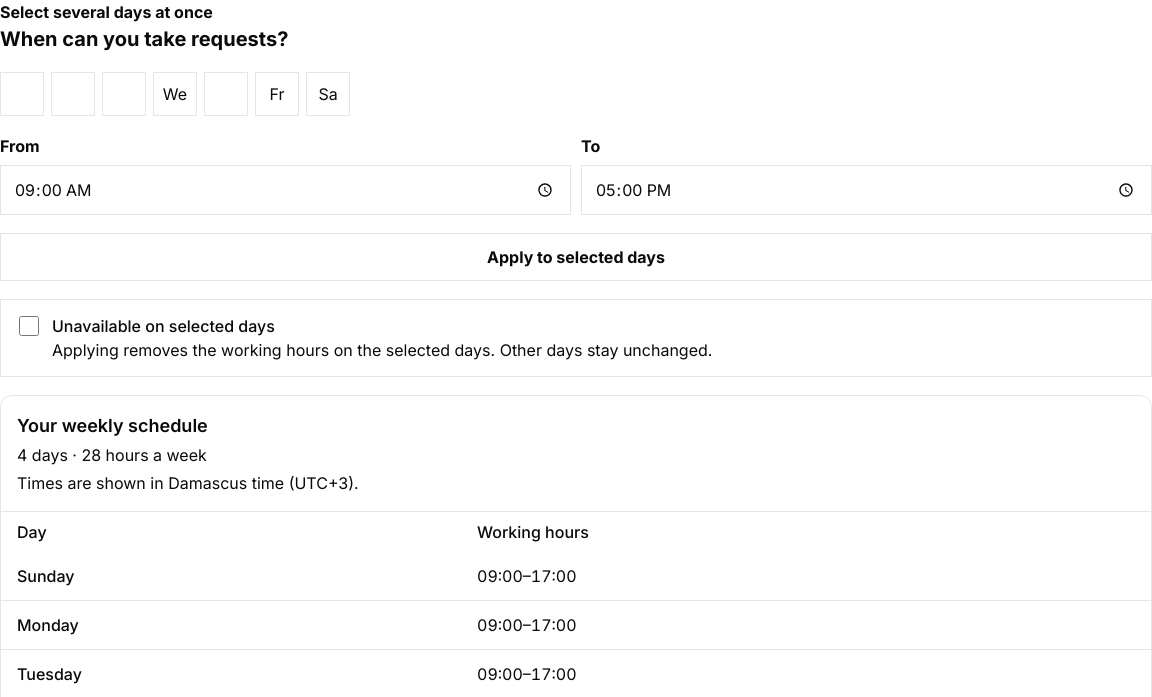
Test: G-04 — applying must not quietly discard what it was not asked about › lets the provider back out, changing nothing
Click the button with test id "apply-to-selected": (576, 257) [0,233,1151,281]
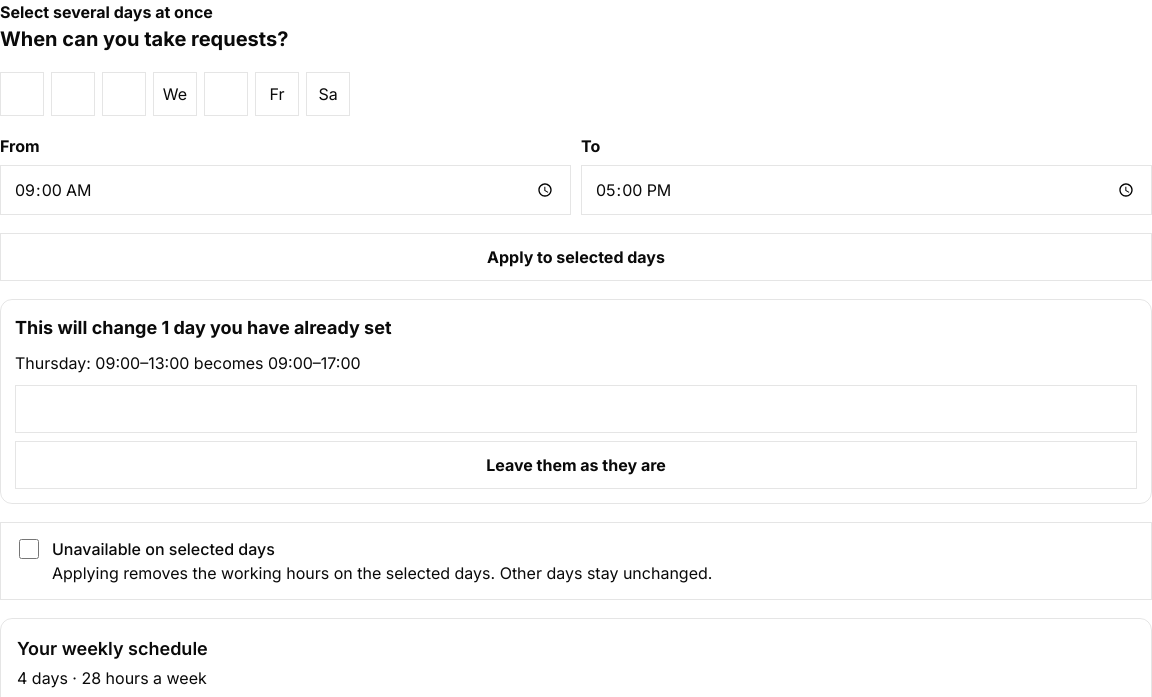
Click the button with test id "apply-discards-cancel": (576, 465) [15,441,1137,489]
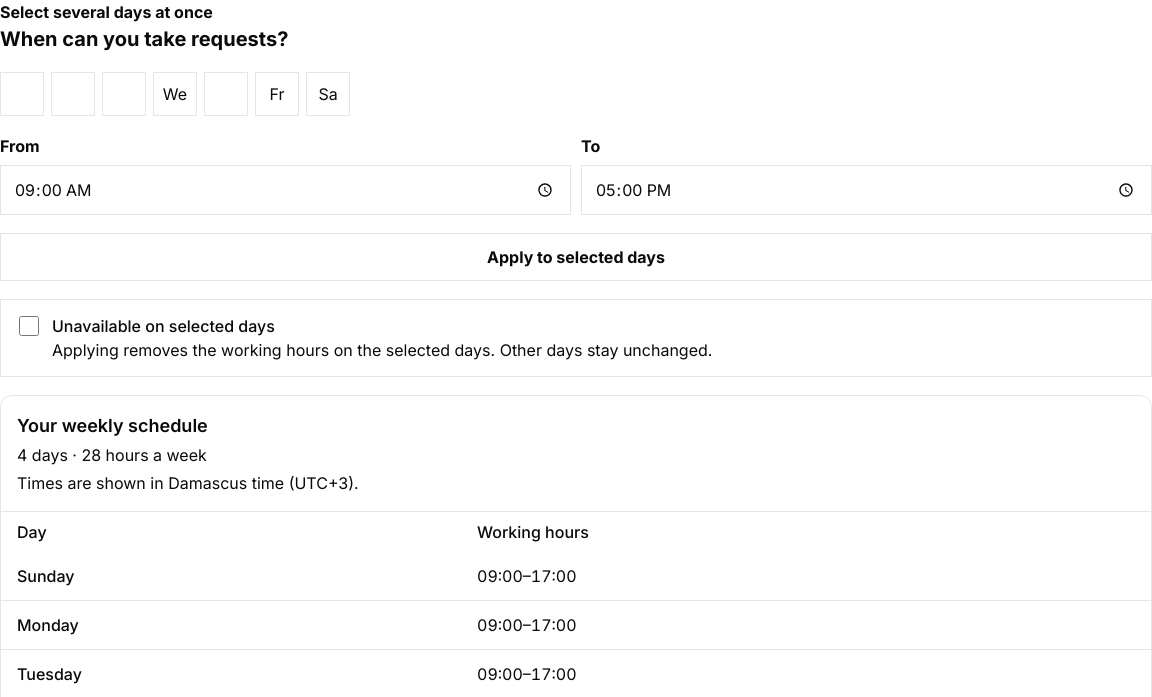
Now the dialog with test id "apply-discards" is gone
